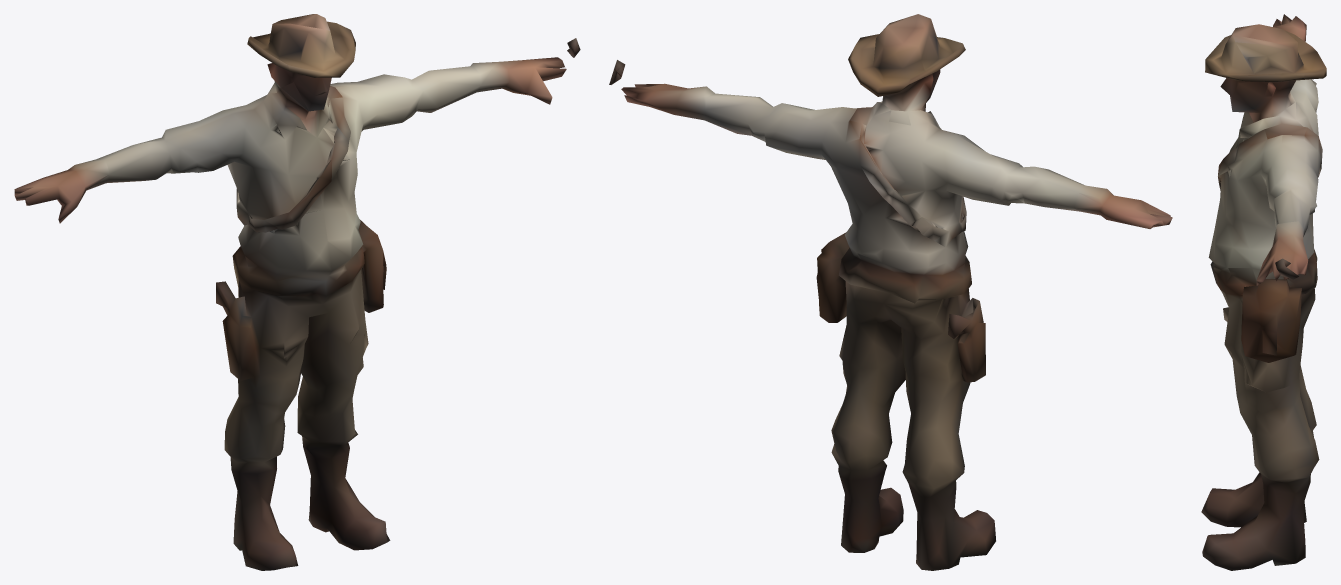
The model's file is crew-personD-far.glb.
3 renders of one model, left to right at view 1: azimuth 30°, elevation 25°; view 2: azimuth 150°, elevation 25°; view 3: azimuth 270°, elevation 25°, orthographic. The views are drawn at different scales.
Parts seen in each view (by area): view 1: char1; view 2: char1; view 3: char1.
Part boxes in pixels (x1,y1,x2,y2): char1: (14, 14, 580, 570); char1: (609, 14, 1172, 570); char1: (1201, 14, 1326, 570).
Bounding box in the file's own units: 192 × 171 × 38.17.
